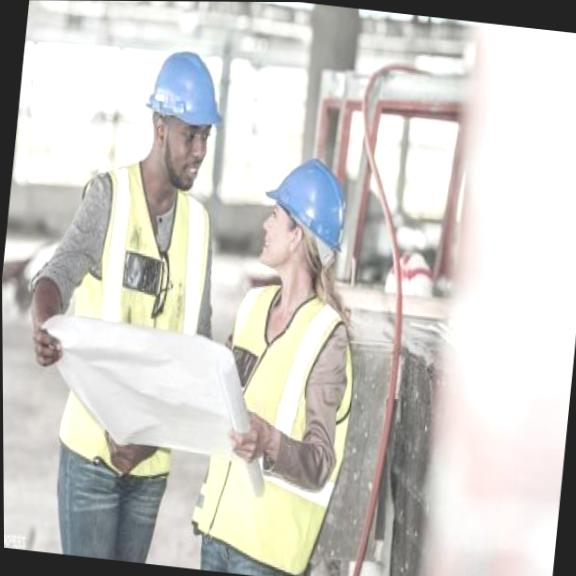safety_vest: (49, 170, 225, 481), (187, 277, 359, 576)
